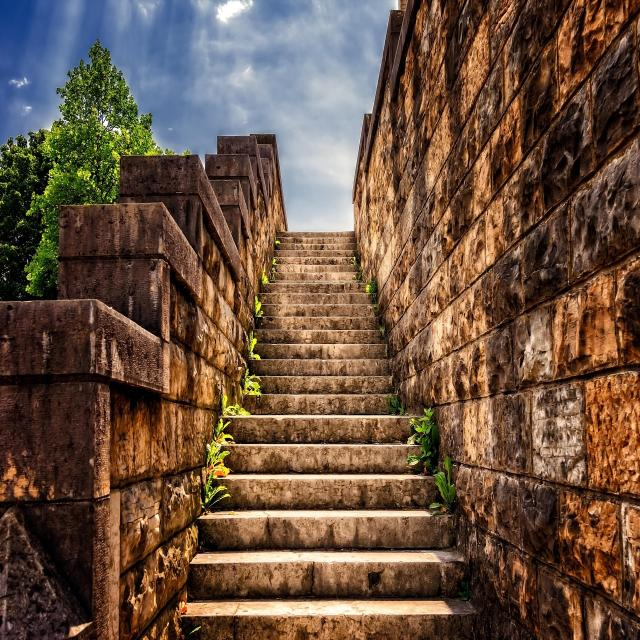Stairs: (195, 358, 470, 599)
